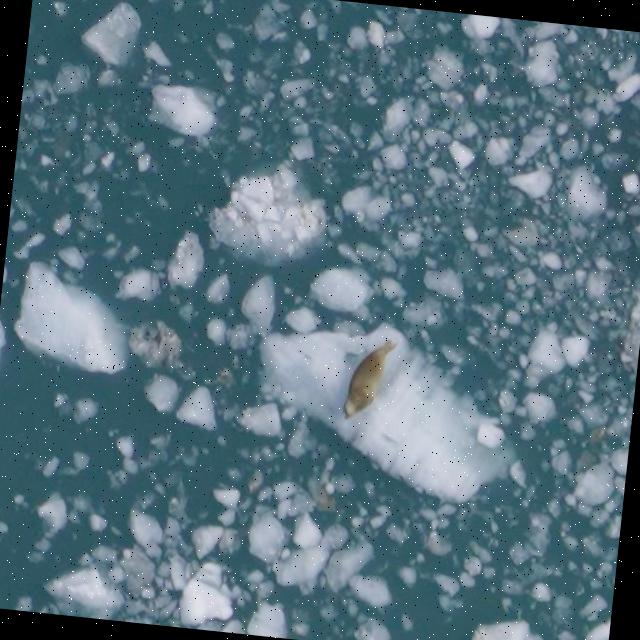seal: (343, 339, 398, 416)
